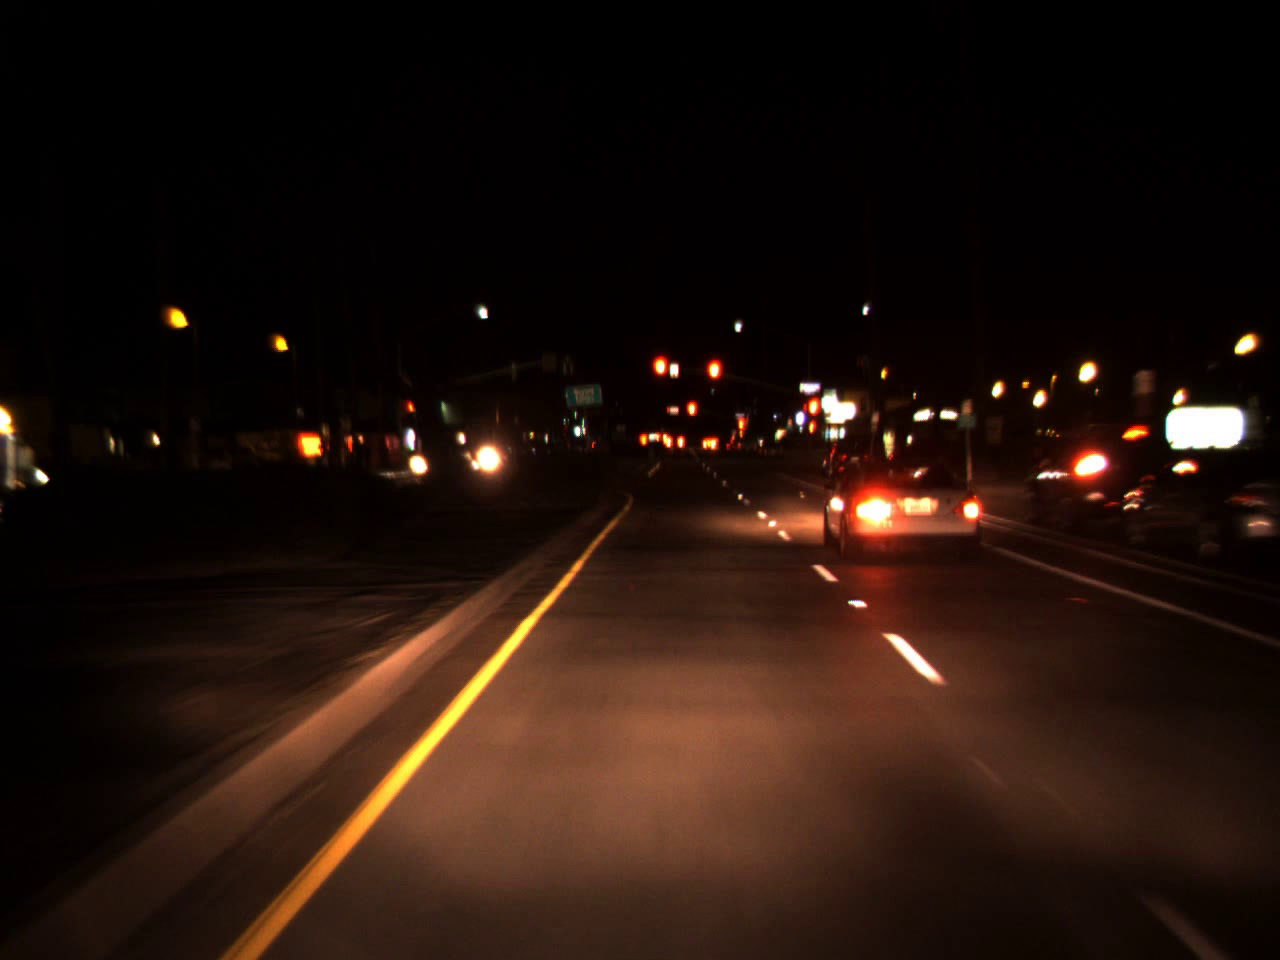stop: (650, 352, 671, 400), (703, 356, 723, 401), (805, 393, 823, 441), (684, 398, 699, 435), (737, 415, 744, 447), (406, 399, 415, 423)
